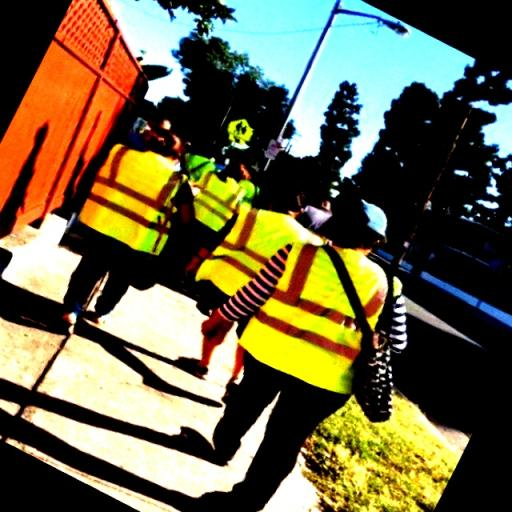Person: (240, 222, 394, 480), (59, 123, 189, 325), (218, 192, 313, 330), (195, 145, 257, 246)
vest: (247, 230, 390, 398), (78, 143, 182, 261), (200, 207, 316, 296), (193, 170, 247, 236)
